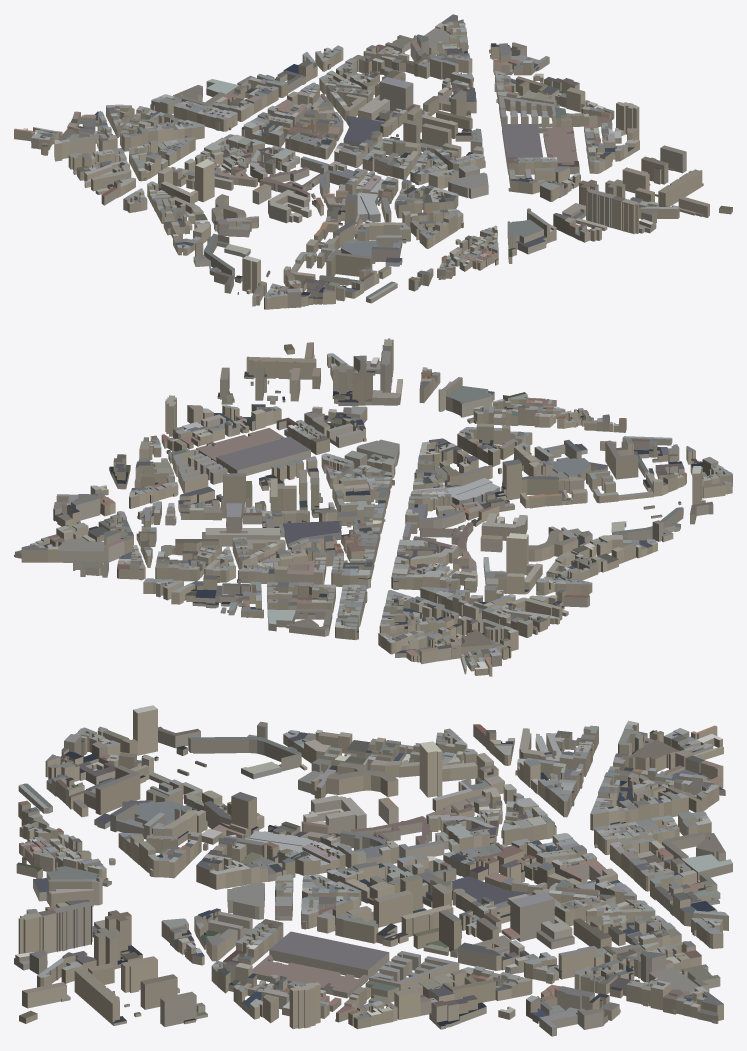
3 renders of one model, top to bottom at view 1: azimuth 30°, elevation 25°; view 2: azimuth 150°, elevation 25°; view 3: azimuth 270°, elevation 25°, orthographic. The views are drawn at different scales.
Parts seen in each view (by area): view 1: tuile; view 2: tuile; view 3: tuile.
Part boxes in pixels (x1,y1,x2,y2): tuile: (14, 14, 732, 309); tuile: (14, 338, 732, 676); tuile: (14, 705, 732, 1036).
Size of the model in its own units: 1046 by 89.48 by 1038.
